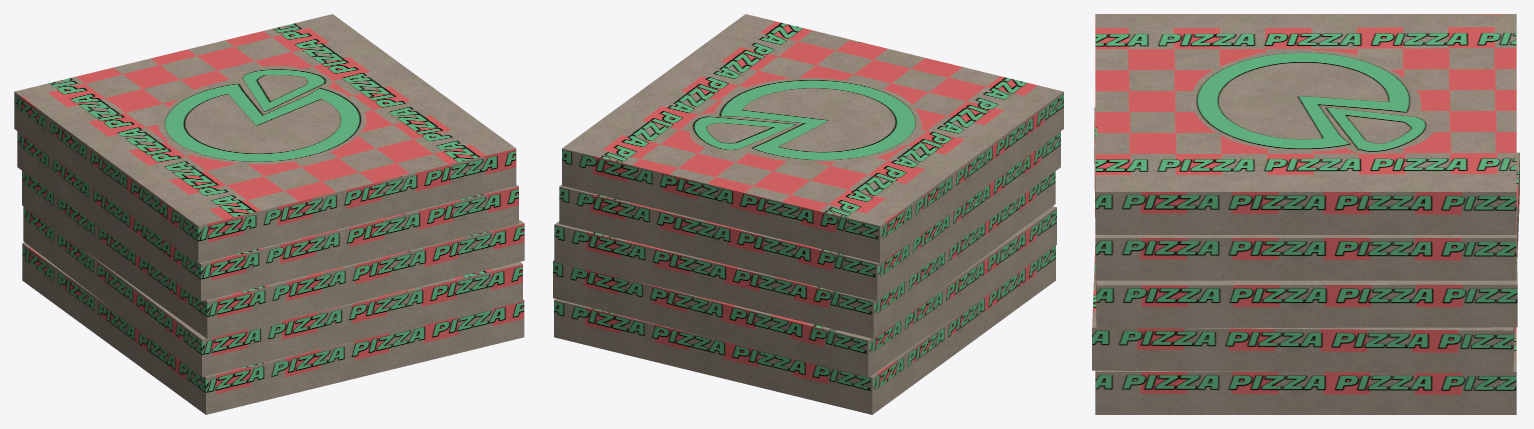
The model's file is pizzabox_Neat_Large.fbx.
3 renders of one model, left to right at view 1: azimuth 30°, elevation 25°; view 2: azimuth 150°, elevation 25°; view 3: azimuth 270°, elevation 25°, orthographic. The views are drawn at different scales.
Visible parts, largest first — view 1: pizzaBox.004, pizzaBox.001, pizzaBox.003, pizzaBox, pizzaBox.002; view 2: pizzaBox.004, pizzaBox.001, pizzaBox.003, pizzaBox, pizzaBox.002; view 3: pizzaBox.004, pizzaBox.002, pizzaBox.001, pizzaBox.003, pizzaBox.
Boxes of the visible parts, bbox=[...] form: pizzaBox.004: bbox=[14, 14, 516, 263]; pizzaBox.001: bbox=[23, 206, 522, 376]; pizzaBox.003: bbox=[17, 131, 518, 301]; pizzaBox: bbox=[22, 242, 524, 414]; pizzaBox.002: bbox=[22, 171, 524, 338]; pizzaBox.004: bbox=[562, 14, 1063, 263]; pizzaBox.001: bbox=[553, 206, 1056, 377]; pizzaBox.003: bbox=[559, 131, 1060, 301]; pizzaBox: bbox=[554, 246, 1055, 414]; pizzaBox.002: bbox=[554, 171, 1055, 338]; pizzaBox.004: bbox=[1095, 14, 1516, 234]; pizzaBox.002: bbox=[1094, 107, 1517, 328]; pizzaBox.001: bbox=[1092, 152, 1519, 373]; pizzaBox.003: bbox=[1095, 235, 1516, 280]; pizzaBox: bbox=[1095, 327, 1516, 414].
Size of the model in its own units: 206 by 115 by 203.
Materials: 1 (1 with a texture image).
